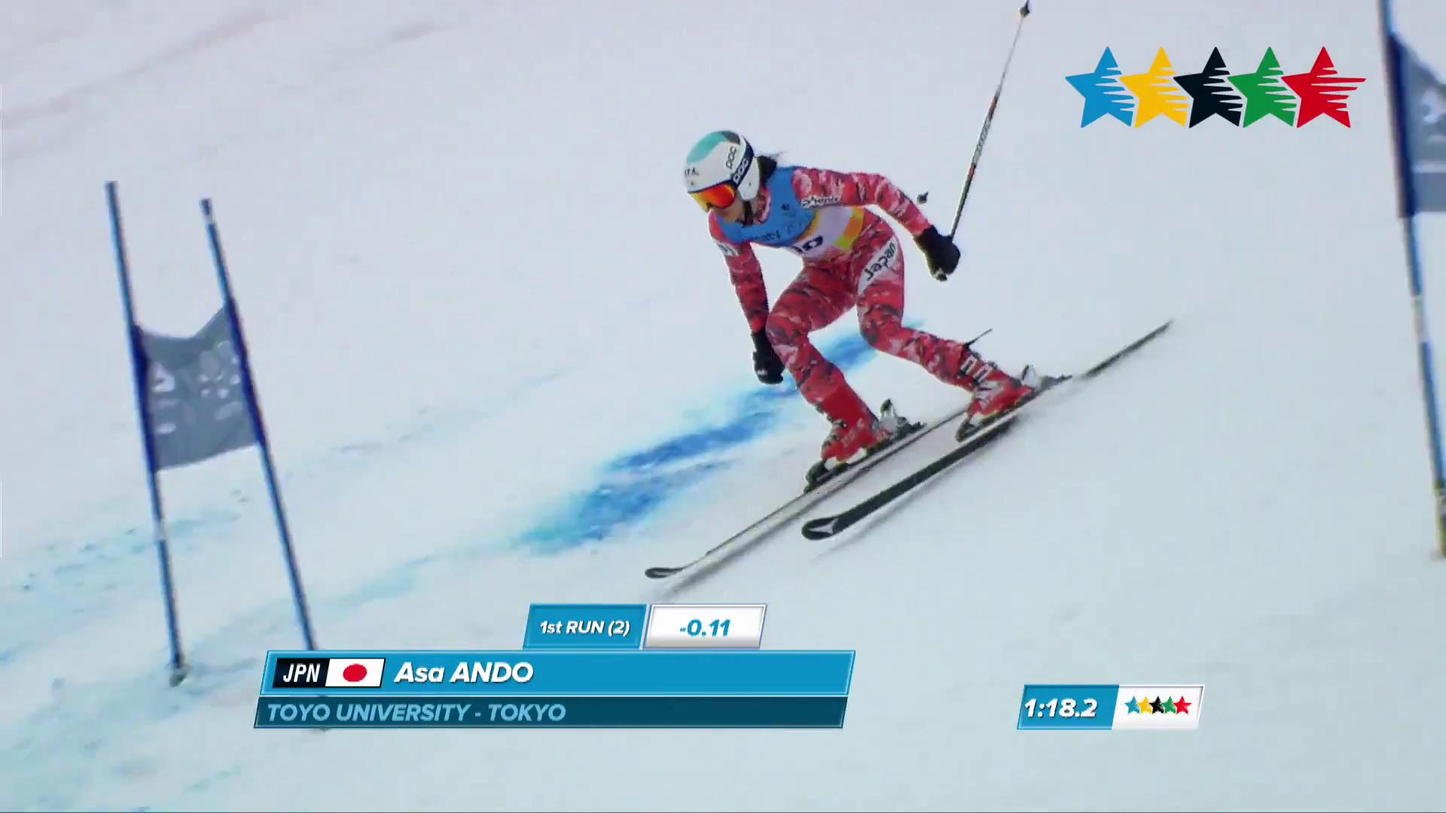gate: (201, 198, 313, 647), (106, 181, 186, 684)
